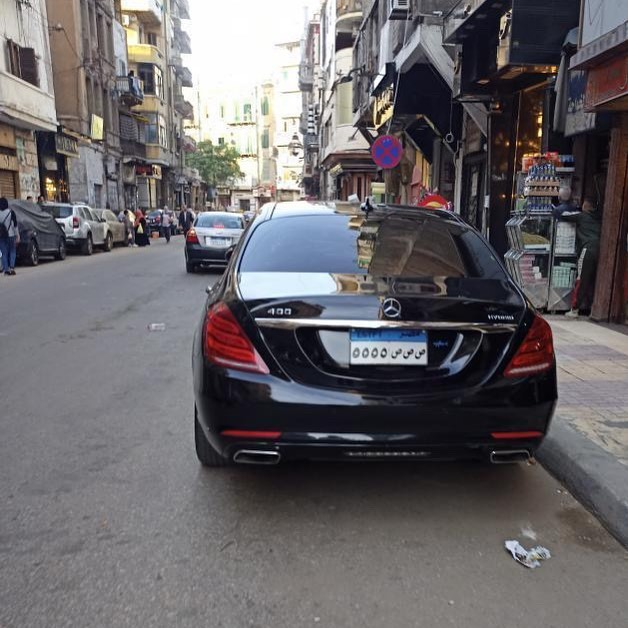carpl: (345, 326, 428, 369)
